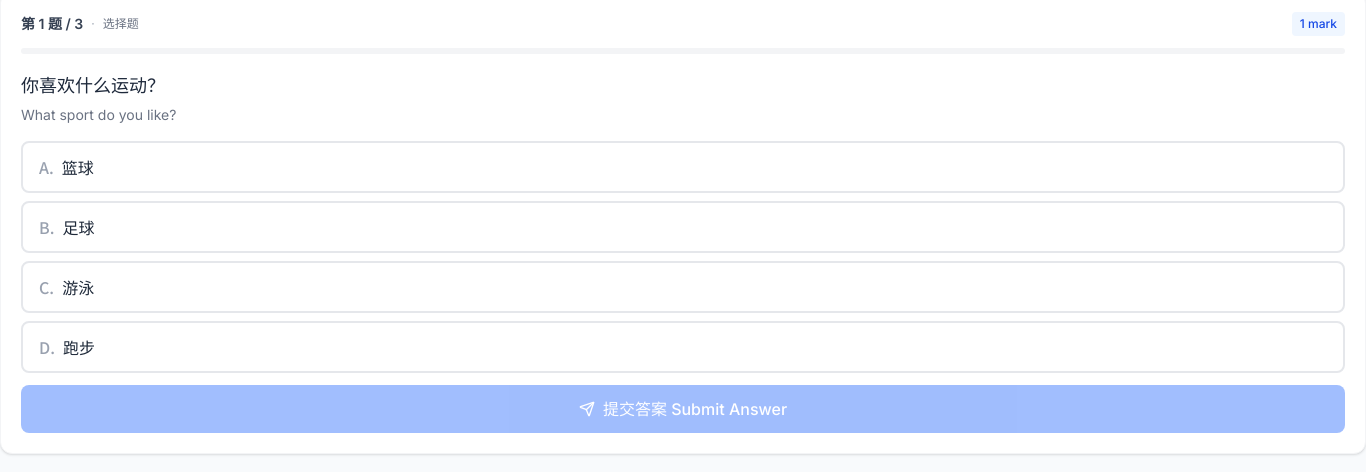
Test: QuestionCard — independent per-question state › enables submit after an option is picked
The image size is (1366, 472).
Click the radio button labelled "A.篮球" at (78, 167), box [21, 141, 1345, 193]
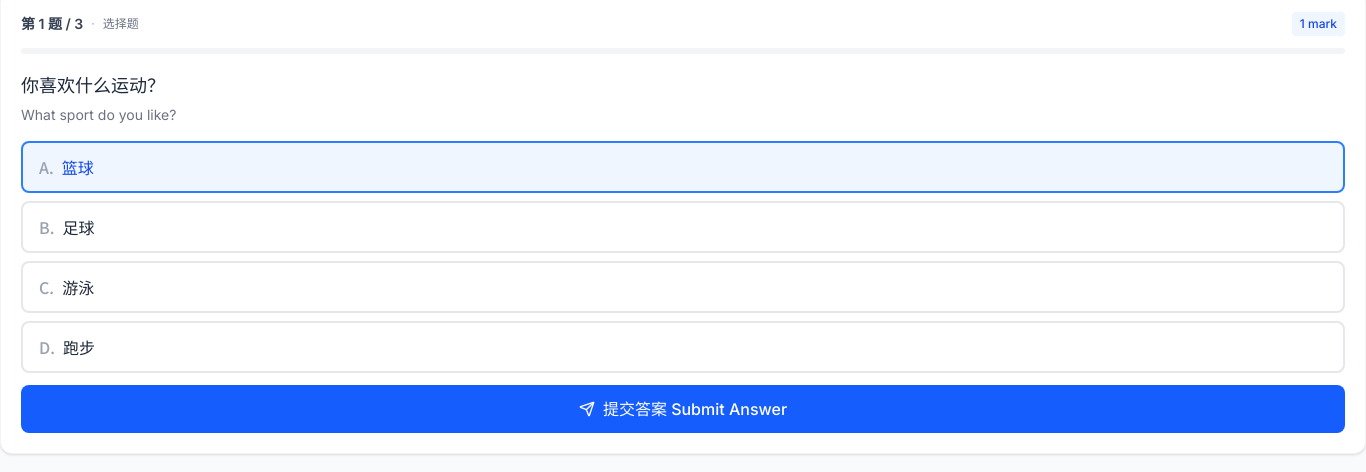
Expected: the button "提交答案 Submit Answer" is enabled, [21, 385, 1345, 433]
